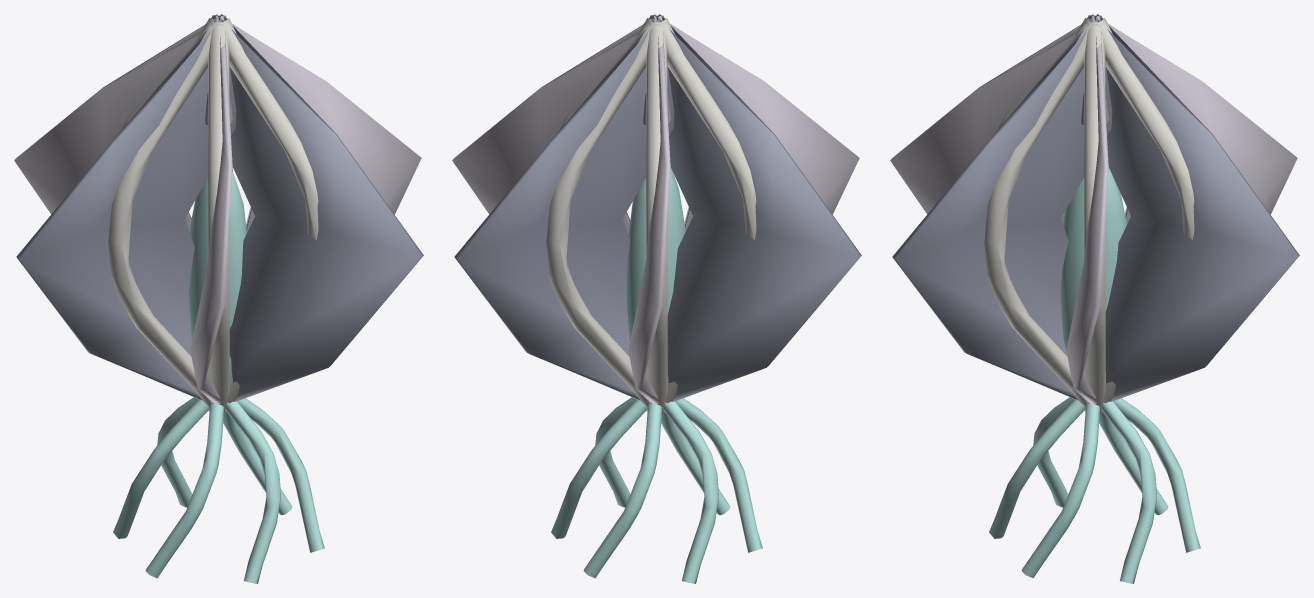
The model's file is bio_lantern_sail_04_far.glb.
3 renders of one model, left to right at view 1: azimuth 30°, elevation 25°; view 2: azimuth 150°, elevation 25°; view 3: azimuth 270°, elevation 25°, orthographic.
Visible parts, largest first — view 1: Ribbed sensory membrane.005, Ribbed sensory membrane.003, Ribbed sensory membrane.002, Ribbed sensory membrane, Membrane leading seam.003, Ribbed sensory membrane.004, Membrane leading seam.004, Membrane leading seam.005, Buoyancy spindle, Trailing electroreceptor.004, Trailing electroreceptor.003, Trailing electroreceptor.005 (+3 smaller); view 2: Ribbed sensory membrane.003, Ribbed sensory membrane.001, Ribbed sensory membrane, Ribbed sensory membrane.004, Membrane leading seam.001, Ribbed sensory membrane.002, Membrane leading seam.002, Membrane leading seam.003, Buoyancy spindle, Trailing electroreceptor.002, Trailing electroreceptor.001, Trailing electroreceptor.003 (+3 smaller); view 3: Ribbed sensory membrane.001, Ribbed sensory membrane.005, Ribbed sensory membrane.004, Ribbed sensory membrane.002, Membrane leading seam.005, Ribbed sensory membrane, Membrane leading seam, Buoyancy spindle, Membrane leading seam.001, Trailing electroreceptor, Trailing electroreceptor.005, Trailing electroreceptor.001 (+3 smaller).
Part boxes in pixels (<box>): Ribbed sensory membrane.005: <box>219,14,423,401</box>; Ribbed sensory membrane.003: <box>16,16,236,399</box>; Ribbed sensory membrane.002: <box>14,16,233,231</box>; Ribbed sensory membrane: <box>216,14,421,232</box>; Membrane leading seam.003: <box>108,18,218,409</box>; Ribbed sensory membrane.004: <box>190,16,232,404</box>; Membrane leading seam.004: <box>208,22,229,414</box>; Membrane leading seam.005: <box>219,18,318,414</box>; Buoyancy spindle: <box>189,171,246,388</box>; Trailing electroreceptor.004: <box>225,401,280,583</box>; Trailing electroreceptor.003: <box>145,402,224,578</box>; Trailing electroreceptor.005: <box>237,398,324,552</box>; Ribbed sensory membrane.003: <box>657,14,861,401</box>; Ribbed sensory membrane.001: <box>454,16,674,399</box>; Ribbed sensory membrane: <box>452,16,671,234</box>; Ribbed sensory membrane.004: <box>654,14,859,231</box>; Membrane leading seam.001: <box>546,18,656,409</box>; Ribbed sensory membrane.002: <box>628,16,670,404</box>; Membrane leading seam.002: <box>646,22,667,414</box>; Membrane leading seam.003: <box>657,18,756,414</box>; Buoyancy spindle: <box>626,168,685,383</box>; Trailing electroreceptor.002: <box>663,401,718,583</box>; Trailing electroreceptor.001: <box>583,402,662,578</box>; Trailing electroreceptor.003: <box>675,398,762,552</box>; Ribbed sensory membrane.001: <box>1095,14,1299,401</box>; Ribbed sensory membrane.005: <box>892,16,1112,399</box>; Ribbed sensory membrane.004: <box>890,16,1109,223</box>; Ribbed sensory membrane.002: <box>1092,14,1297,224</box>; Membrane leading seam.005: <box>984,18,1094,409</box>; Ribbed sensory membrane: <box>1066,16,1108,404</box>; Membrane leading seam: <box>1084,22,1105,414</box>; Buoyancy spindle: <box>1060,167,1126,382</box>; Membrane leading seam.001: <box>1095,18,1194,414</box>; Trailing electroreceptor: <box>1101,401,1156,583</box>; Trailing electroreceptor.005: <box>1021,402,1100,578</box>; Trailing electroreceptor.001: <box>1113,398,1200,552</box>.
Size of the model in its own units: 2.21 by 2.75 by 1.93.
